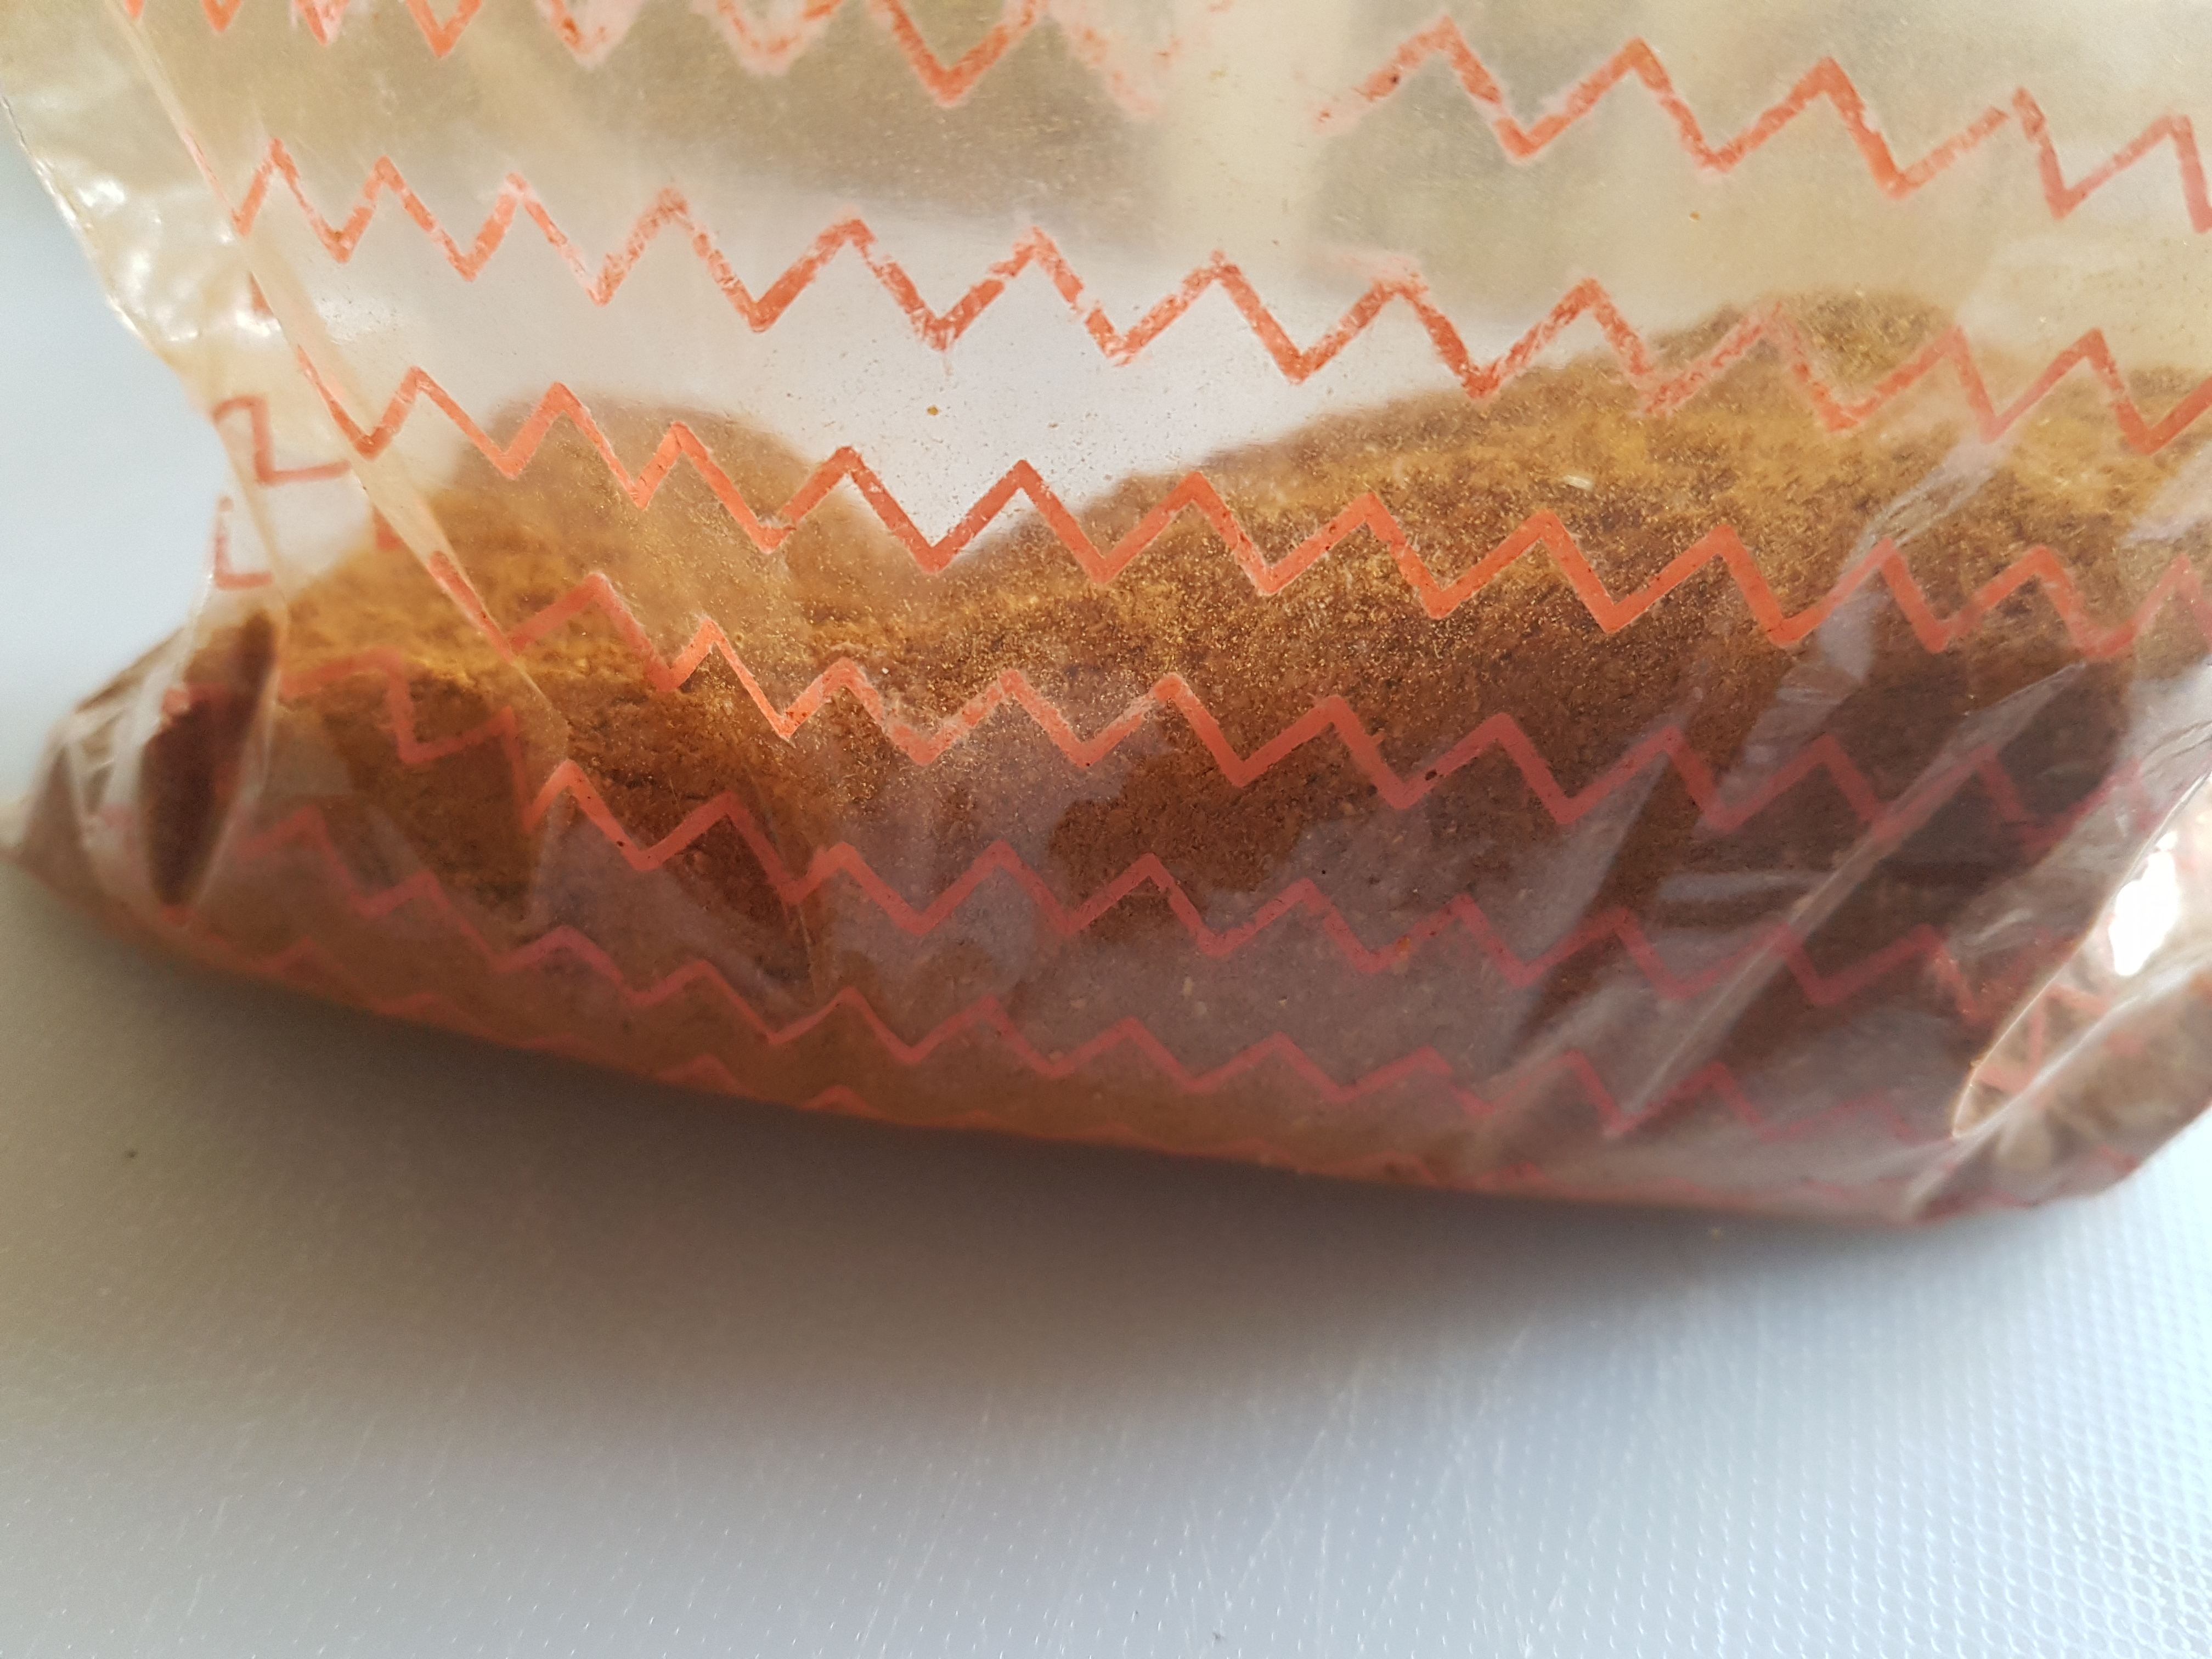Garam masala: (178, 322, 2191, 1195)
